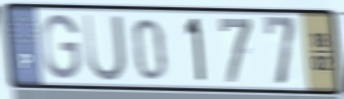0: (129, 16, 171, 82)
1: (184, 16, 208, 83)
7: (261, 14, 299, 90), (217, 16, 253, 85)
G: (40, 12, 83, 82)
U: (80, 11, 128, 84)
